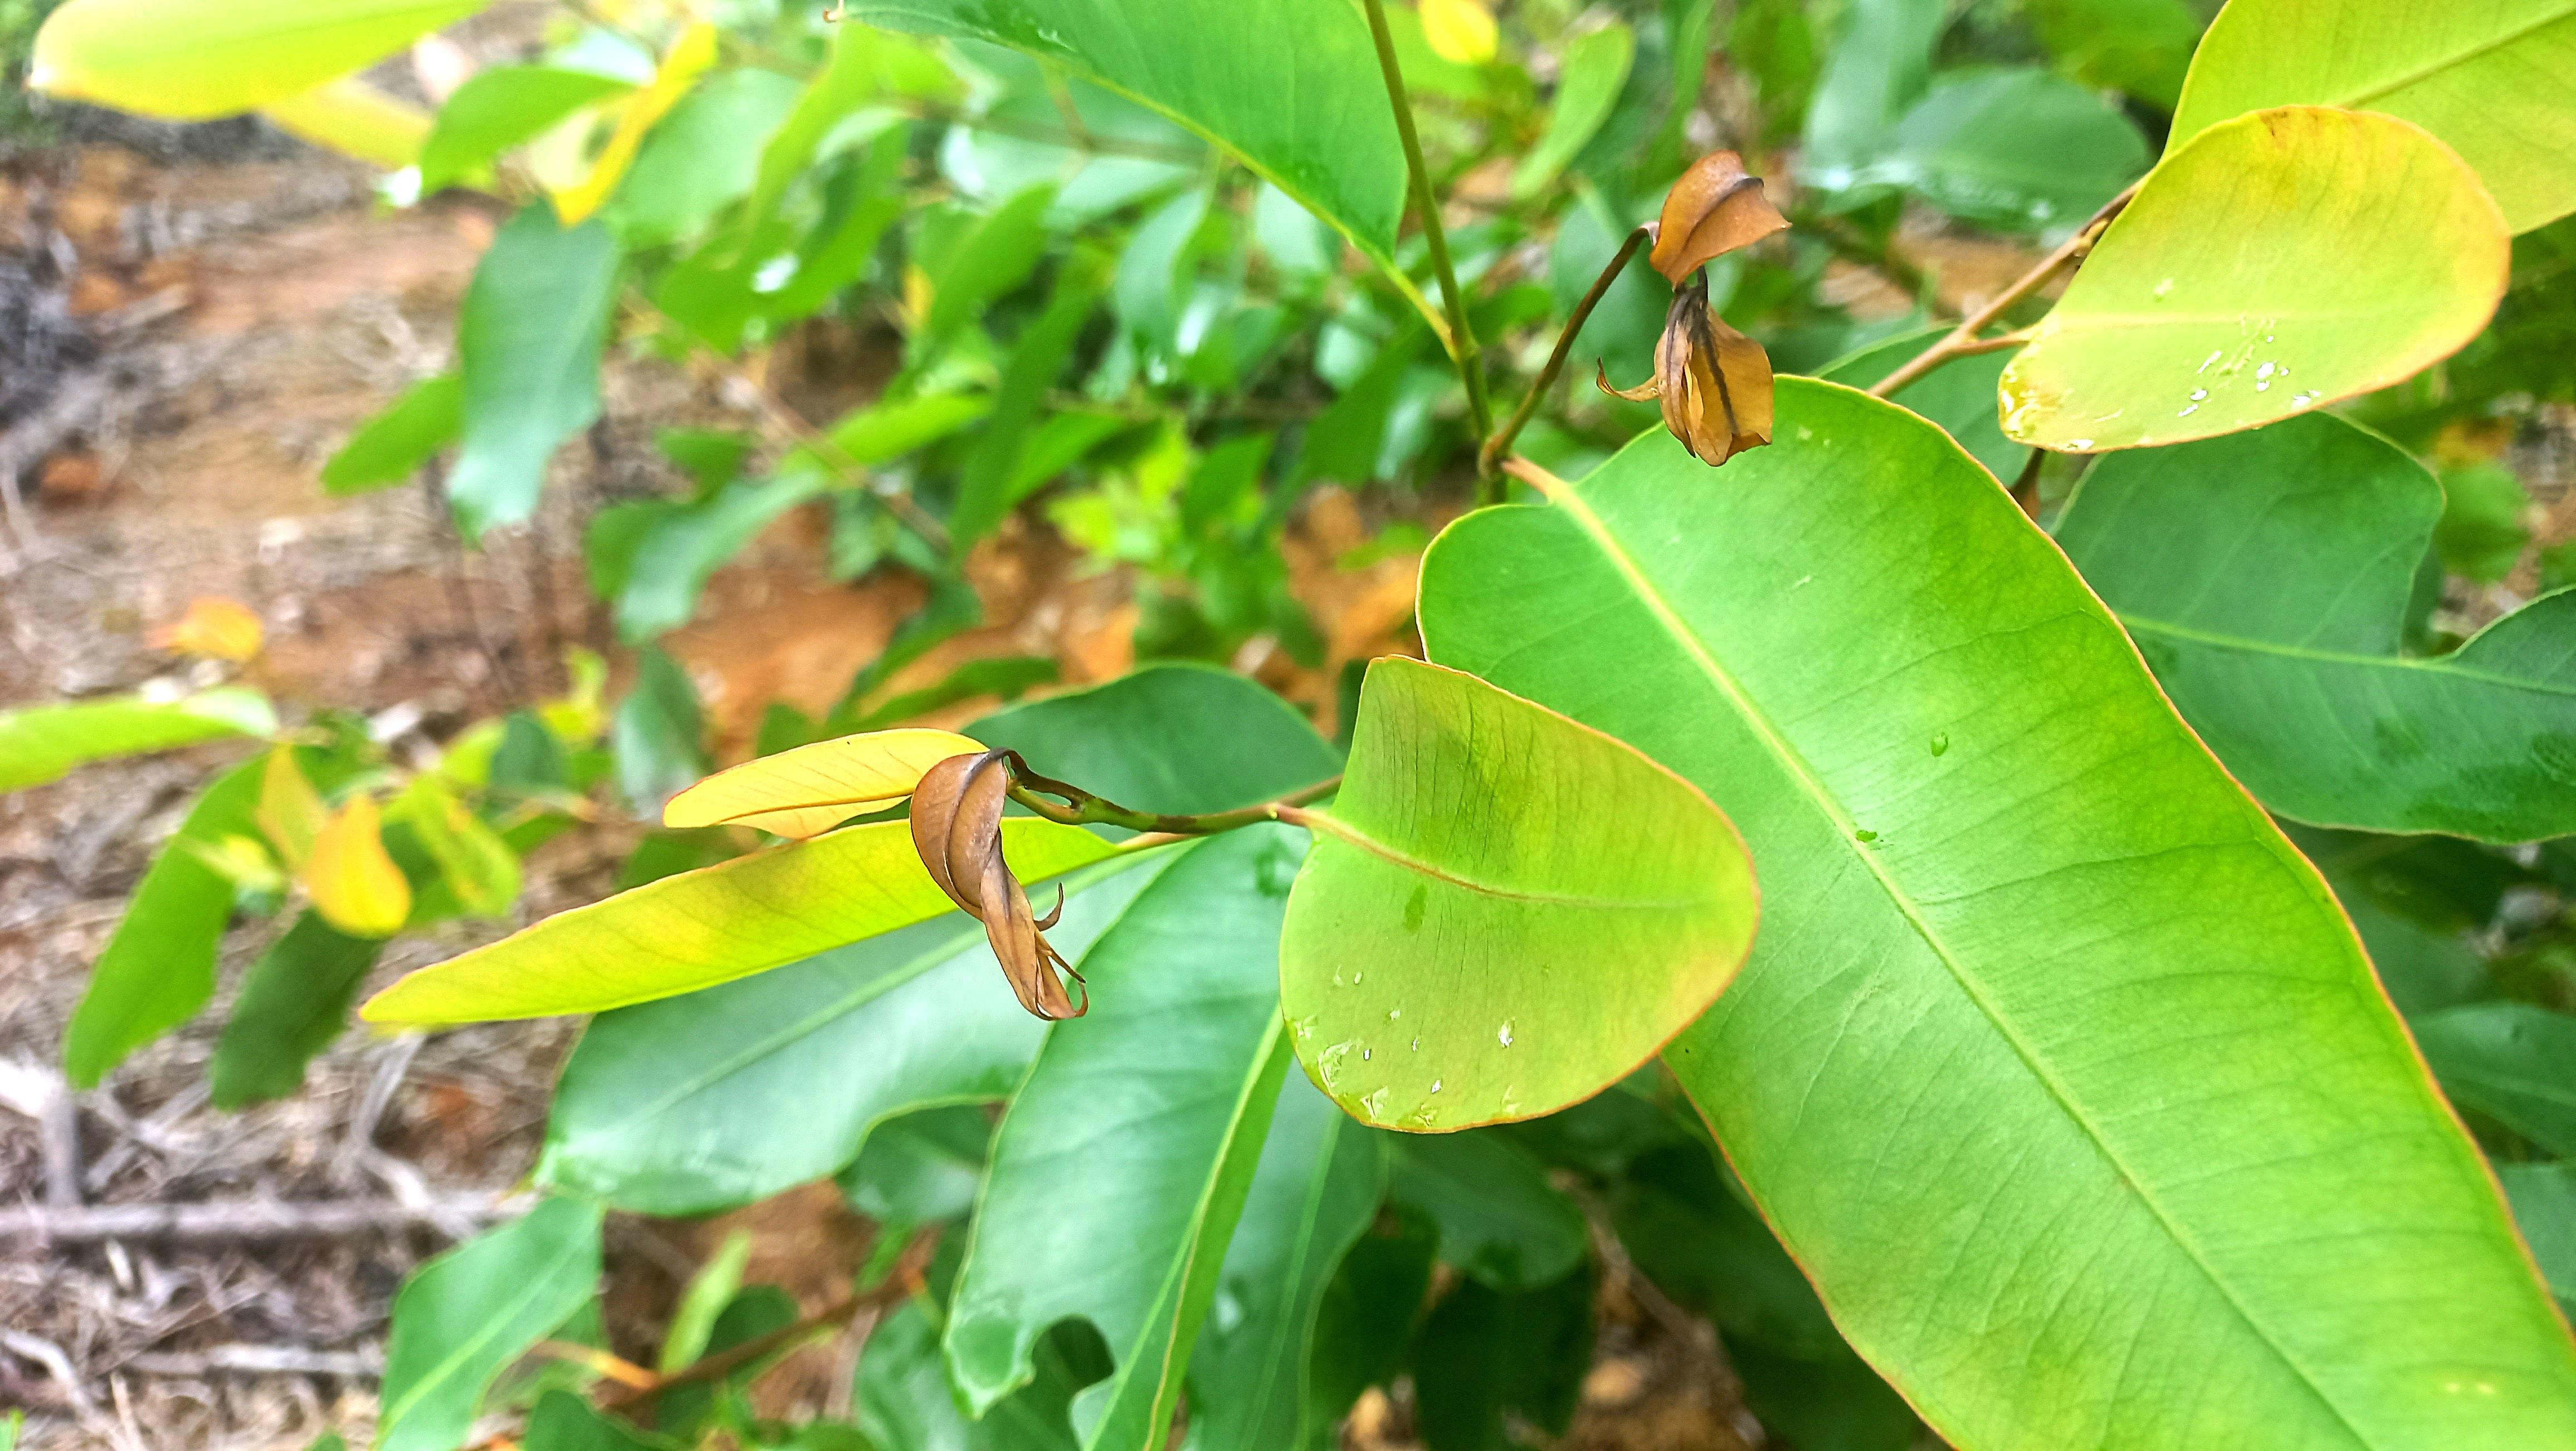Helopeltis-Withered Sprout: (911, 745, 1086, 1025), (1635, 150, 1792, 281), (1677, 297, 1778, 464), (1605, 292, 1690, 474)
